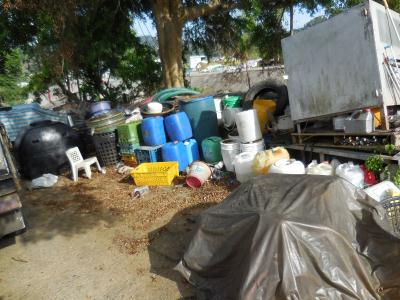bottle: (231, 149, 260, 184), (342, 108, 372, 135)
bowl: (88, 98, 112, 114)
bucket: (16, 118, 82, 180), (178, 94, 221, 145), (233, 108, 265, 145), (162, 110, 195, 144), (160, 140, 190, 176), (183, 158, 213, 191), (139, 115, 169, 147)
plastic_bag: (188, 177, 374, 300)
tire: (242, 77, 288, 116)
